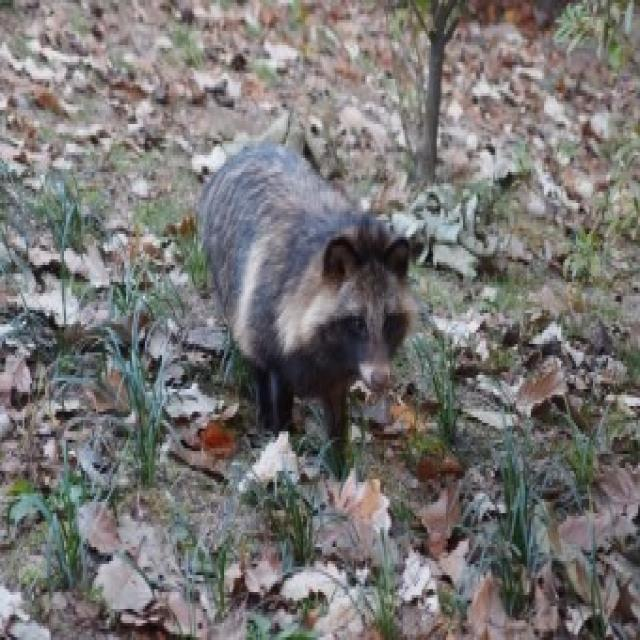racoon: (199, 130, 413, 434)
